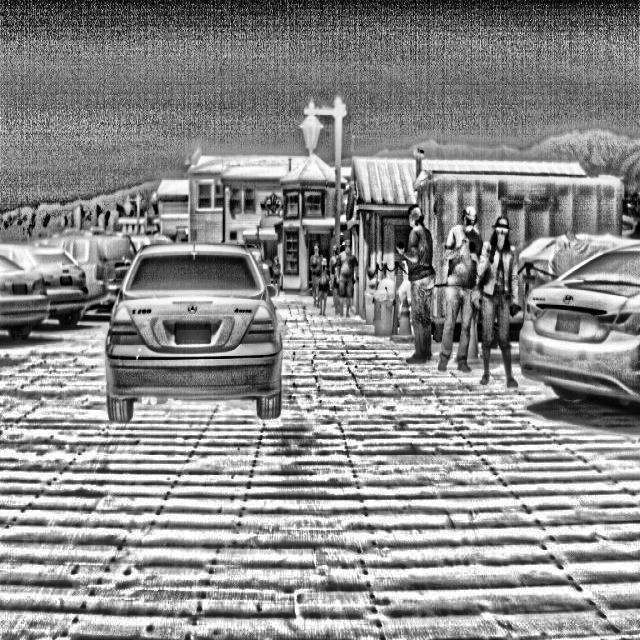car: (96, 220, 300, 437), (530, 212, 640, 426), (11, 204, 89, 328), (1, 198, 59, 344), (45, 224, 135, 305)
light: (302, 95, 351, 161)
person and bycle: (395, 203, 448, 360), (444, 206, 490, 380), (481, 212, 524, 396), (306, 243, 344, 318), (338, 238, 366, 316)
